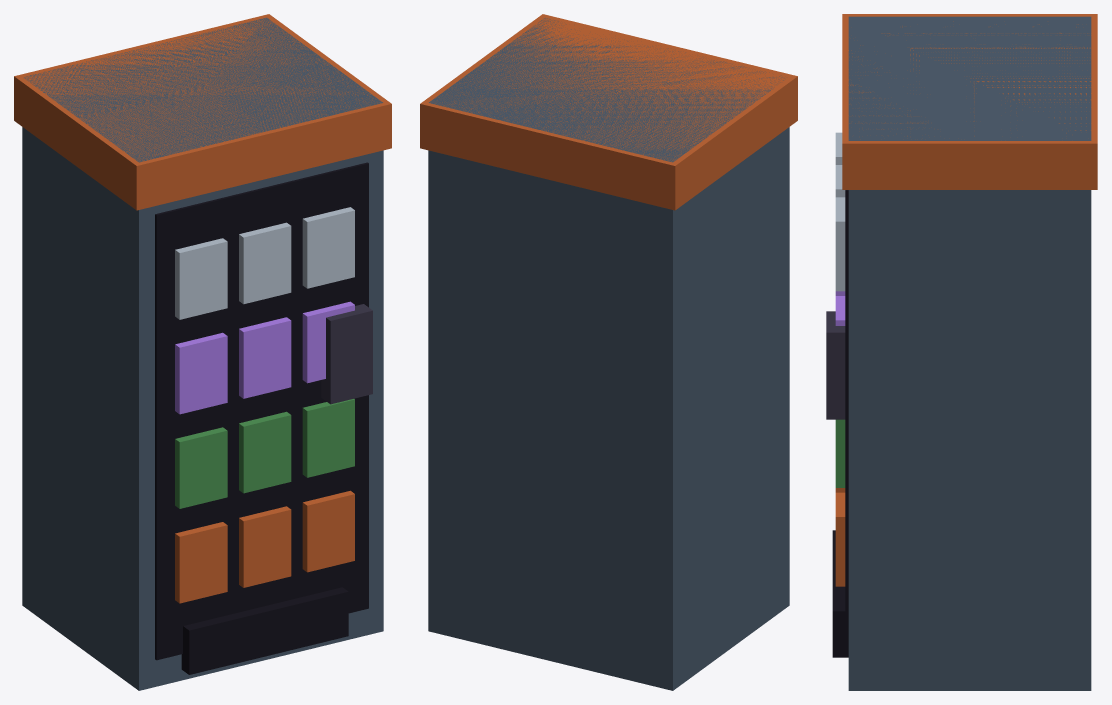
The model's file is vending_machine.obj.
The picture shows the model from 3 angles, left to right: view 1: azimuth 30°, elevation 25°; view 2: azimuth 150°, elevation 25°; view 3: azimuth 270°, elevation 25°; orthographic projection. The views are drawn at different scales.
Parts seen in each view (by area): view 1: vending_machine; view 2: vending_machine; view 3: vending_machine.
Boxes of the visible parts, box(x1,y1,x2,y2) form: vending_machine: box(14, 14, 391, 690); vending_machine: box(420, 14, 797, 690); vending_machine: box(826, 14, 1097, 690).
Size of the model in its own units: 0.96 by 1.9 by 0.85.
